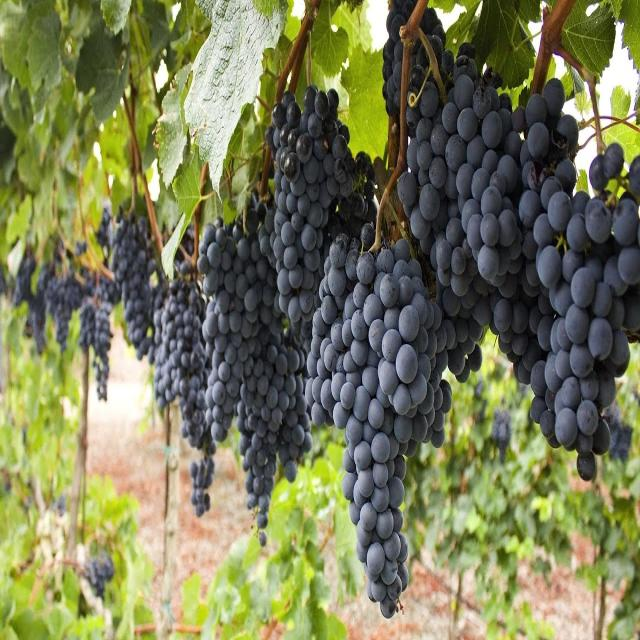grape: (396, 9, 640, 479), (306, 224, 450, 616), (198, 196, 311, 543), (260, 84, 376, 351), (310, 249, 415, 458), (111, 213, 155, 360), (92, 304, 112, 400)
